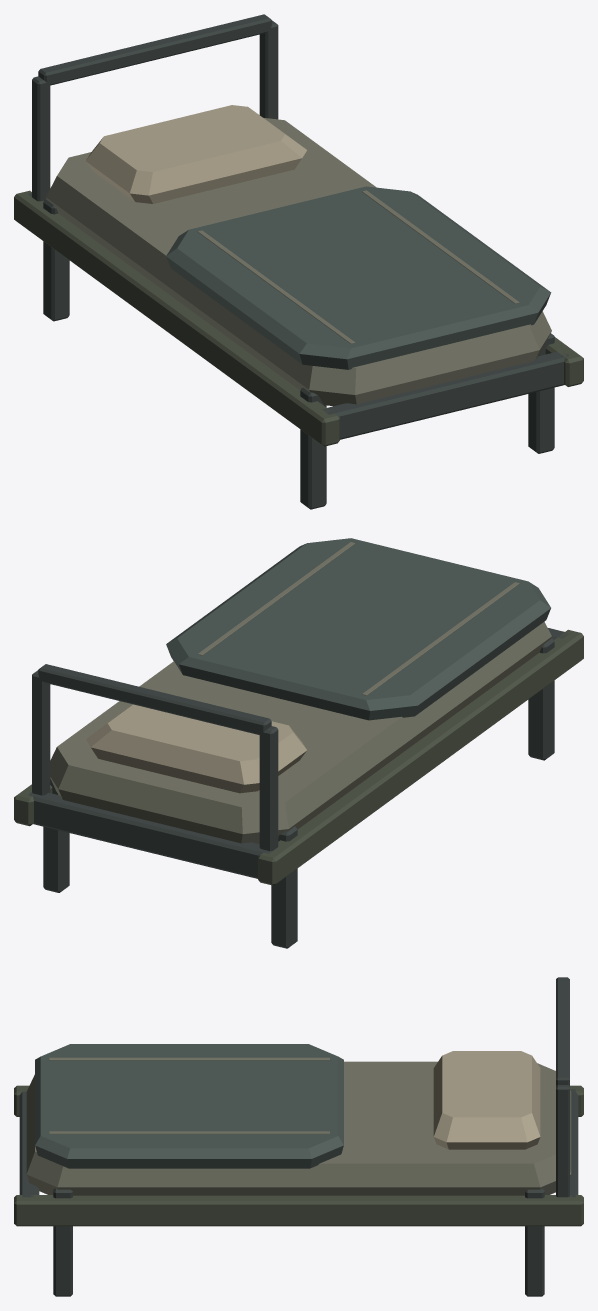
The model's file is Cot01.fbx.
The picture shows the model from 3 angles, top to bottom: view 1: azimuth 30°, elevation 25°; view 2: azimuth 150°, elevation 25°; view 3: azimuth 270°, elevation 25°; orthographic projection. The views are drawn at different scales.
Parts seen in each view (by area): view 1: Folded_Blanket, Mattress, Pillow, Bed_SideRail, Bed_EndRail, Head_Rail, Head_Post, Bed_Leg, Bed_Leg.001, Head_Post.001, Bed_Leg.002, Bed_SideRail.001 (+2 smaller); view 2: Folded_Blanket, Mattress, Bed_SideRail, Pillow, Bed_EndRail.001, Head_Rail, Head_Post, Head_Post.001, Bed_Leg.001, Bed_Leg, Bed_Leg.003, Blanket_Seam (+2 smaller); view 3: Folded_Blanket, Mattress, Bed_SideRail.001, Pillow, Bed_Leg.002, Bed_Leg.003, Head_Post.001, Head_Rail, Blanket_Seam, Bed_EndRail, Bed_EndRail.001, Blanket_Seam.001 (+1 smaller).
Part boxes in pixels (x1,y1,x2,y2): Folded_Blanket: (166, 186, 551, 369); Mattress: (46, 118, 551, 406); Pillow: (86, 105, 306, 203); Bed_SideRail: (14, 190, 339, 446); Bed_EndRail: (322, 351, 569, 439); Head_Rail: (38, 14, 271, 85); Head_Post: (32, 76, 50, 201); Bed_Leg: (300, 387, 326, 509); Bed_Leg.001: (43, 199, 69, 321); Head_Post.001: (259, 20, 278, 119); Bed_Leg.002: (528, 333, 554, 453); Bed_SideRail.001: (545, 337, 583, 386); Folded_Blanket: (166, 538, 550, 720); Mattress: (50, 621, 551, 843); Bed_SideRail: (258, 629, 583, 885); Pillow: (85, 704, 307, 793); Bed_EndRail.001: (28, 792, 272, 878); Head_Rail: (38, 664, 271, 735); Head_Post: (259, 726, 278, 850); Head_Post.001: (32, 670, 50, 795); Bed_Leg.001: (271, 826, 297, 948); Bed_Leg: (528, 638, 554, 760); Bed_Leg.003: (43, 779, 69, 892); Blanket_Seam: (362, 582, 519, 695); Folded_Blanket: (35, 1044, 343, 1168); Mattress: (26, 1061, 571, 1195); Bed_SideRail.001: (14, 1195, 583, 1226); Pillow: (433, 1051, 540, 1149); Bed_Leg.002: (53, 1188, 72, 1296); Bed_Leg.003: (525, 1188, 544, 1296); Head_Post.001: (556, 1085, 569, 1197); Head_Rail: (556, 977, 569, 1085); Blanket_Seam: (49, 1057, 329, 1060); Bed_EndRail: (19, 1089, 39, 1197); Bed_EndRail.001: (568, 1089, 578, 1197); Blanket_Seam.001: (49, 1131, 329, 1133).
Bounding box in the file's own units: 99 × 84.5 × 203.
